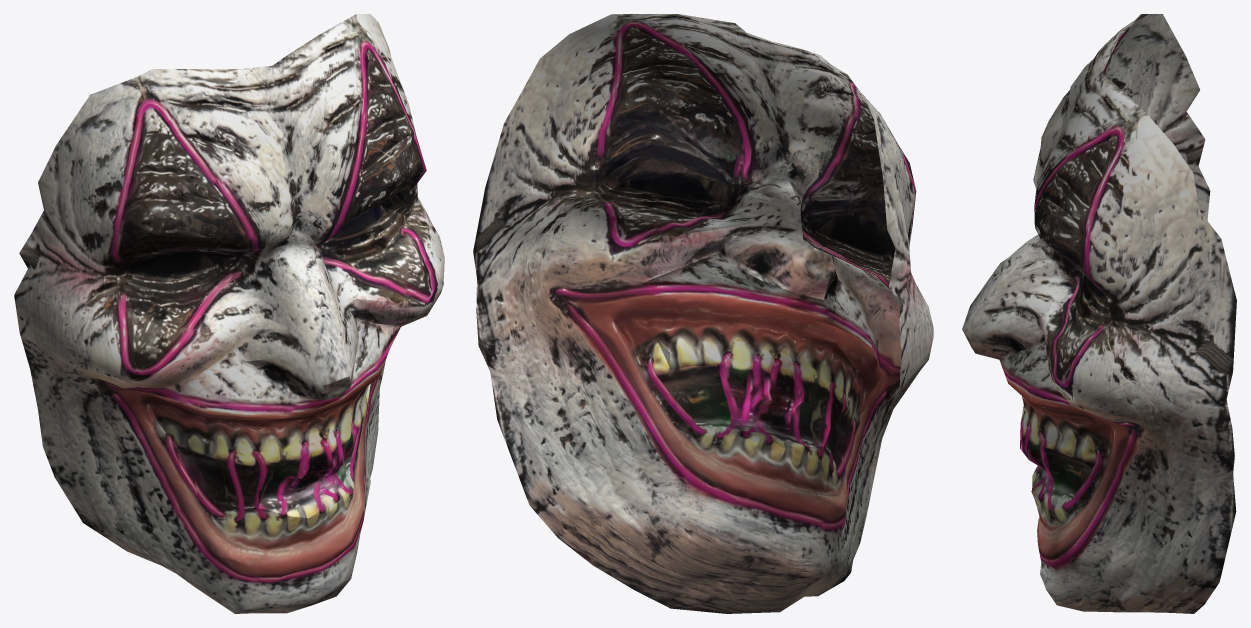
Rendered from riot_clown_mask.glb.
3 views of the same model, side by side, from view 1: azimuth 30°, elevation 25°; view 2: azimuth 150°, elevation 25°; view 3: azimuth 270°, elevation 25° (orthographic). The views are drawn at different scales.
Visible parts, largest first — view 1: geo1; view 2: geo1; view 3: geo1.
Part boxes in pixels (<box>): geo1: <box>14,14,444,613</box>; geo1: <box>473,14,933,613</box>; geo1: <box>962,14,1236,613</box>.
Size of the model in its own units: 0.00168 by 0.00216 by 0.00102.
Materials: 1 (1 with a texture image).
